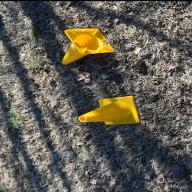cone: (62, 28, 114, 64), (78, 94, 140, 124)
